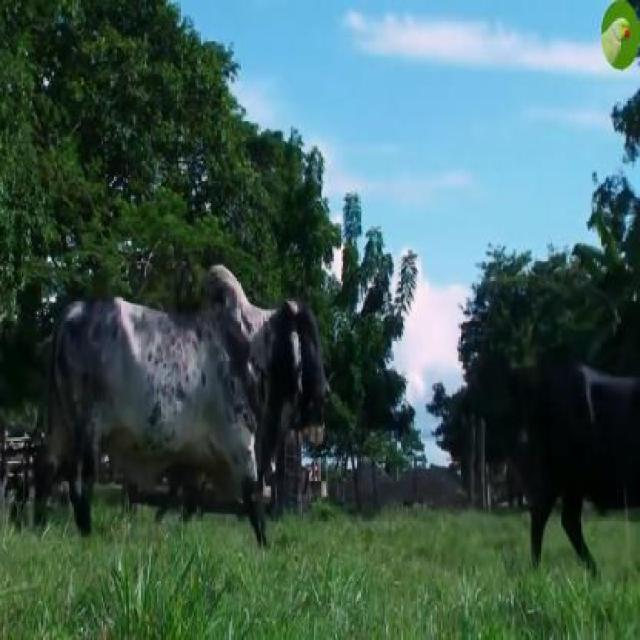Cow: (49, 260, 328, 554)
